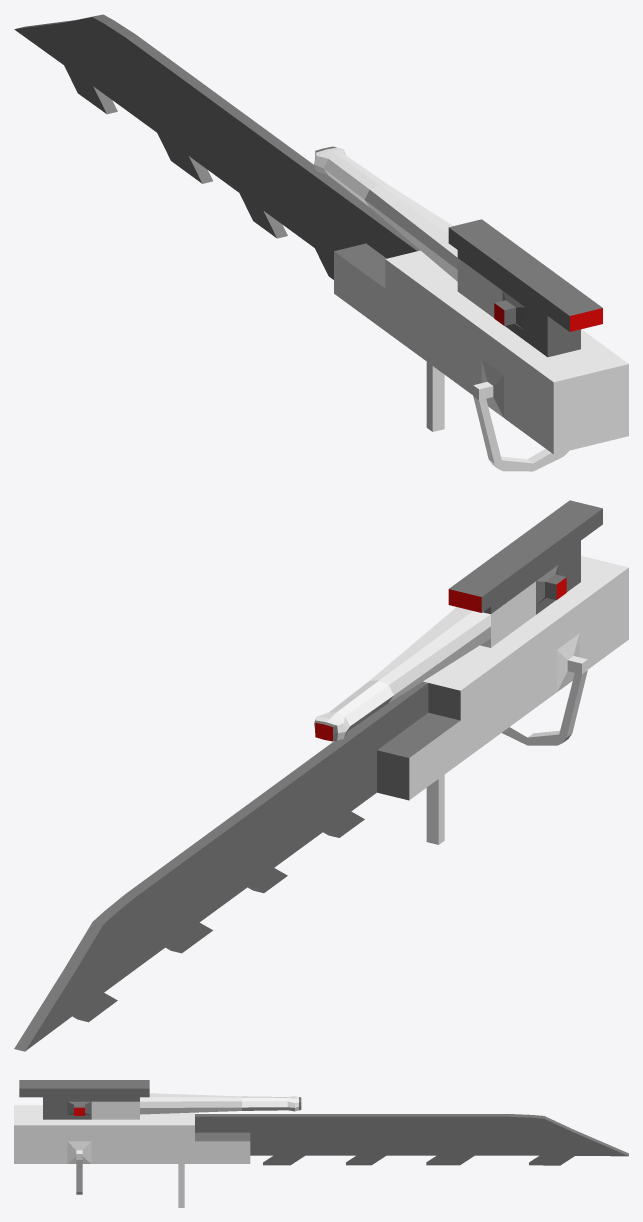
The model's file is BladeCannon.fbx.
The picture shows the model from 3 angles, top to bottom: view 1: azimuth 30°, elevation 25°; view 2: azimuth 150°, elevation 25°; view 3: azimuth 270°, elevation 25°; orthographic projection. The views are drawn at different scales.
Visible parts, largest first — view 1: Cube; view 2: Cube; view 3: Cube.
Part boxes in pixels (x1,y1,x2,y2): Cube: (14, 14, 628, 471); Cube: (14, 500, 628, 1051); Cube: (14, 1080, 628, 1207).
Size of the model in its own units: 139 by 278 by 1270.
